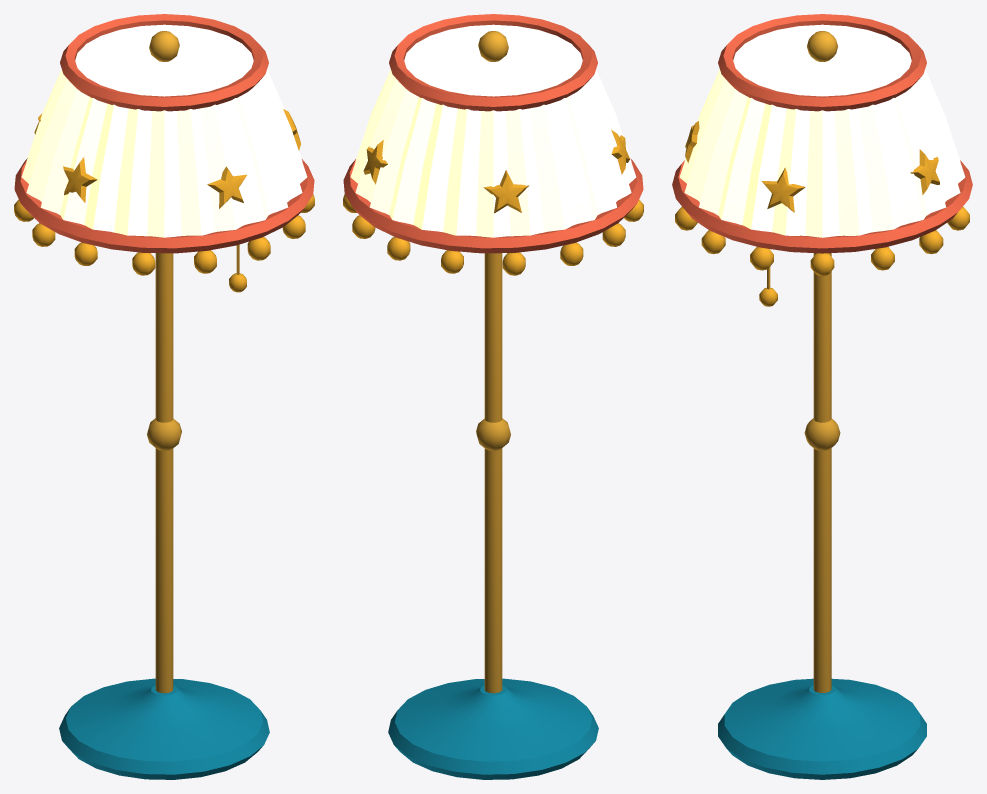
Rendered from floor_lamp.glb.
The picture shows the model from 3 angles, left to right: view 1: azimuth 30°, elevation 25°; view 2: azimuth 150°, elevation 25°; view 3: azimuth 270°, elevation 25°; orthographic projection.
Parts seen in each view (by area): view 1: floor_lamp; view 2: floor_lamp; view 3: floor_lamp.
Boxes of the visible parts, <box> form: floor_lamp: <box>14,14,314,779</box>; floor_lamp: <box>343,14,643,779</box>; floor_lamp: <box>672,14,972,779</box>.
Size of the model in its own units: 0.6732 by 1.73 by 0.67.
